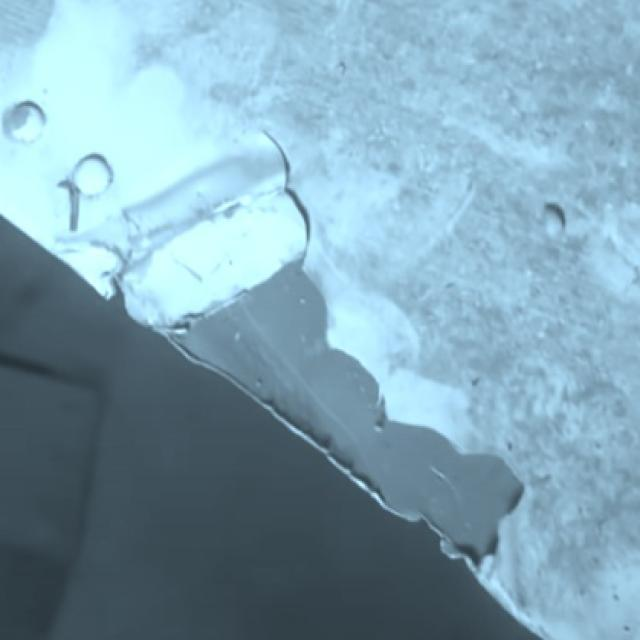crack: (275, 151, 312, 228)
